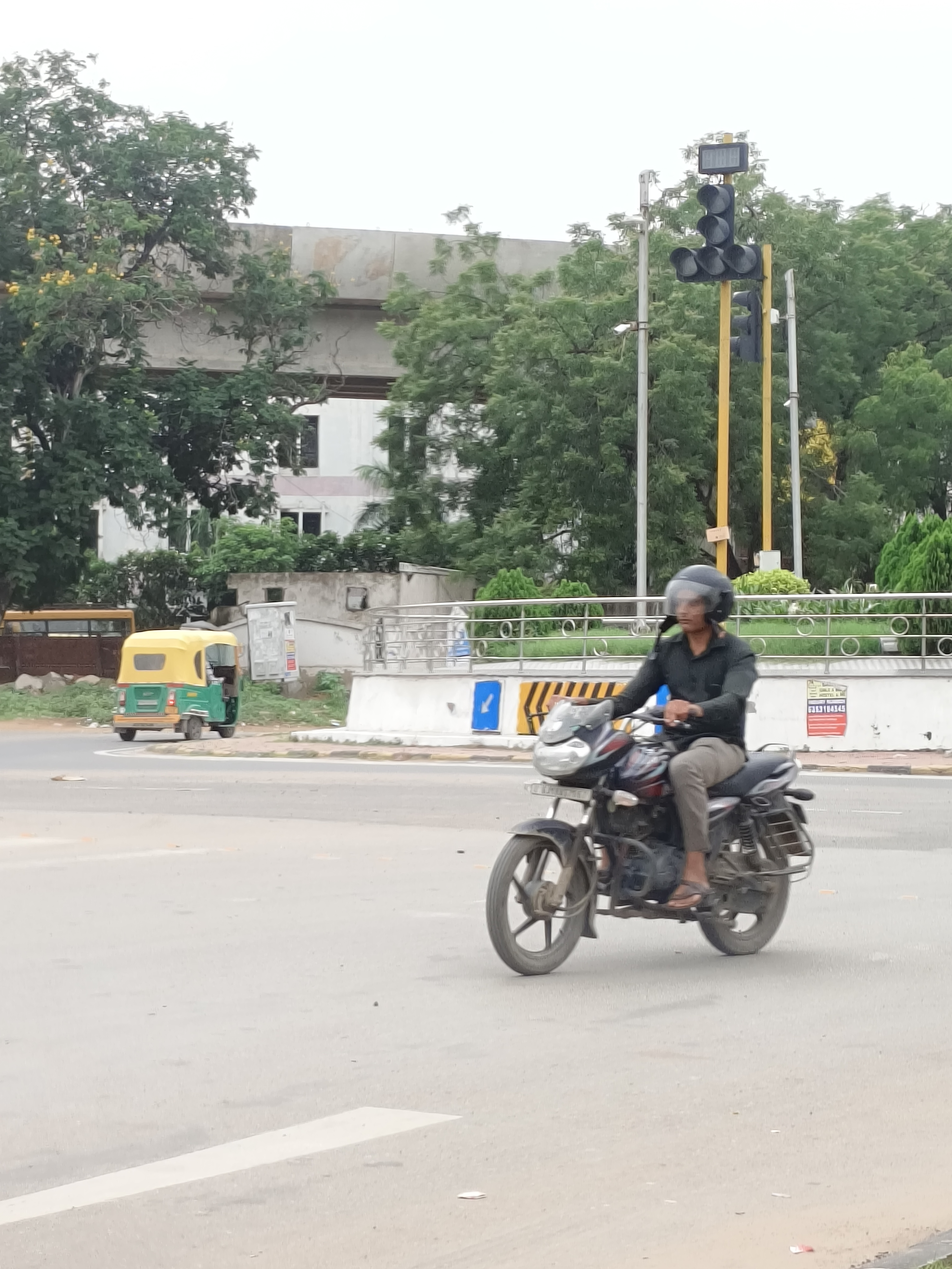BikeWithRider: (478, 560, 820, 980)
Helmet: (657, 559, 738, 638)
